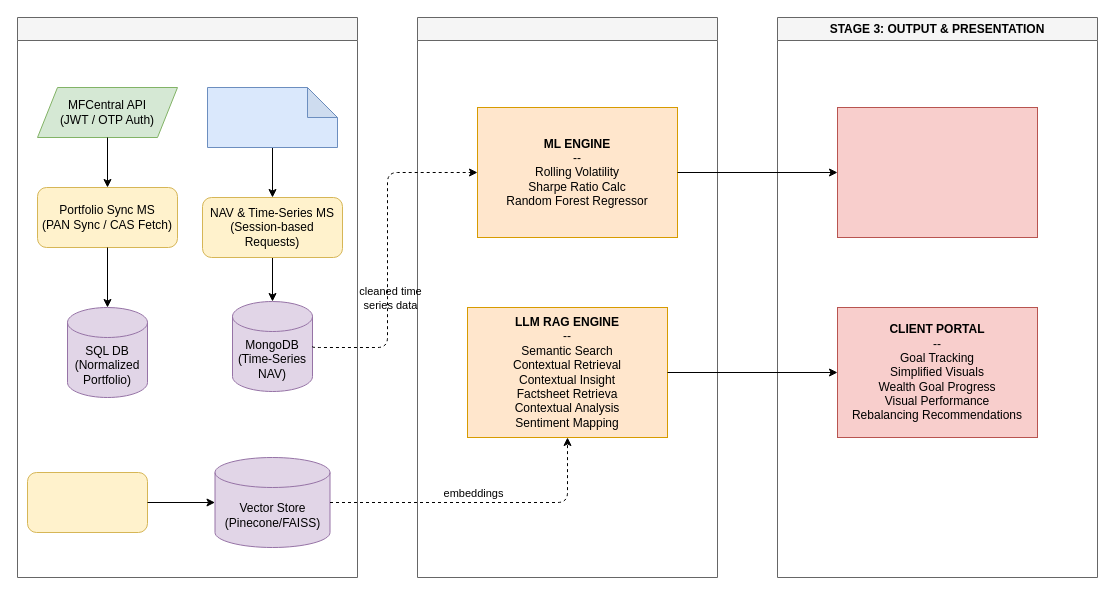
Some shapes in this 1115 by 595 pixel diagram are drawn without their labels. The shapes that lost their labels are listed below. From the top down, each one's box as (x1, y1, x2, y2) in pixels, then its label:
(206, 86, 338, 148): AMFI Web Portal (Daily NAV Scraping)
(836, 106, 1038, 238): ADVISOR DASHBOARD -- Deep Tech Metrics Compliance Alerts Scenario Simulation
(16, 16, 358, 578): STAGE 1: INGESTION & ETL
(416, 16, 718, 578): STAGE 2: ANALYTICAL PROCESSING
(26, 472, 148, 532): AMC Factsheet MS (LLM PDF Extraction)
